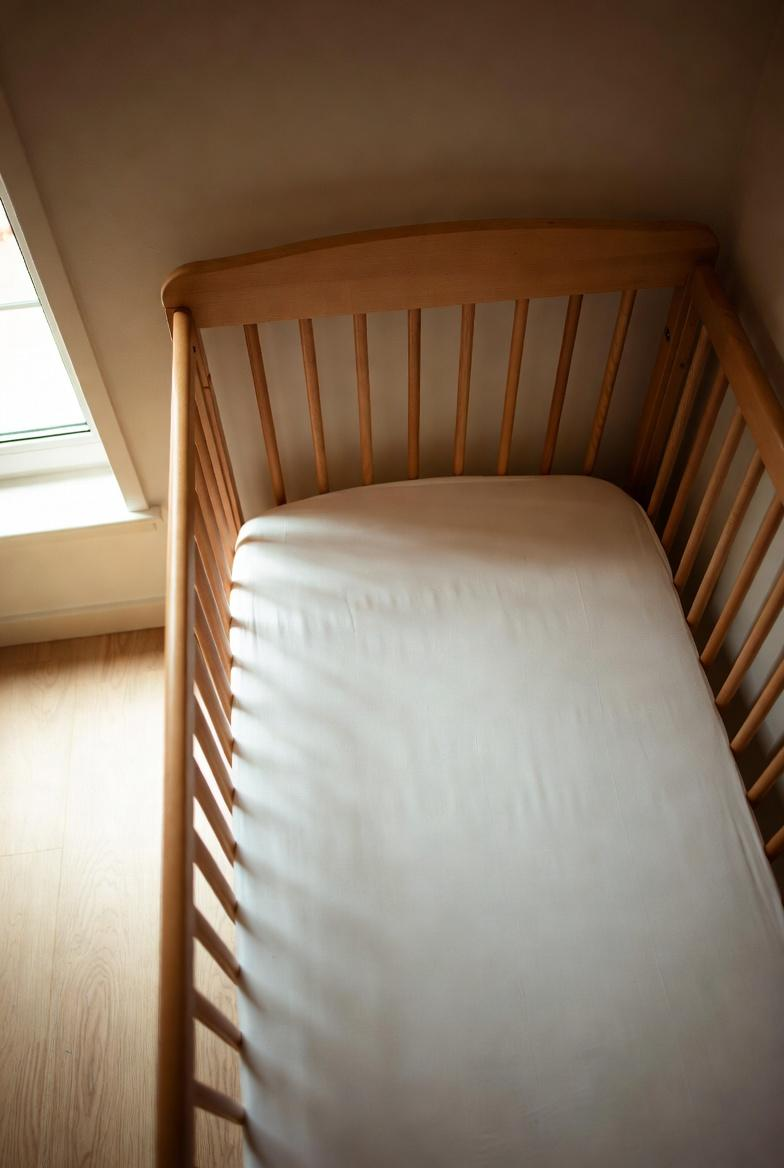crib: (157, 220, 784, 1168)
